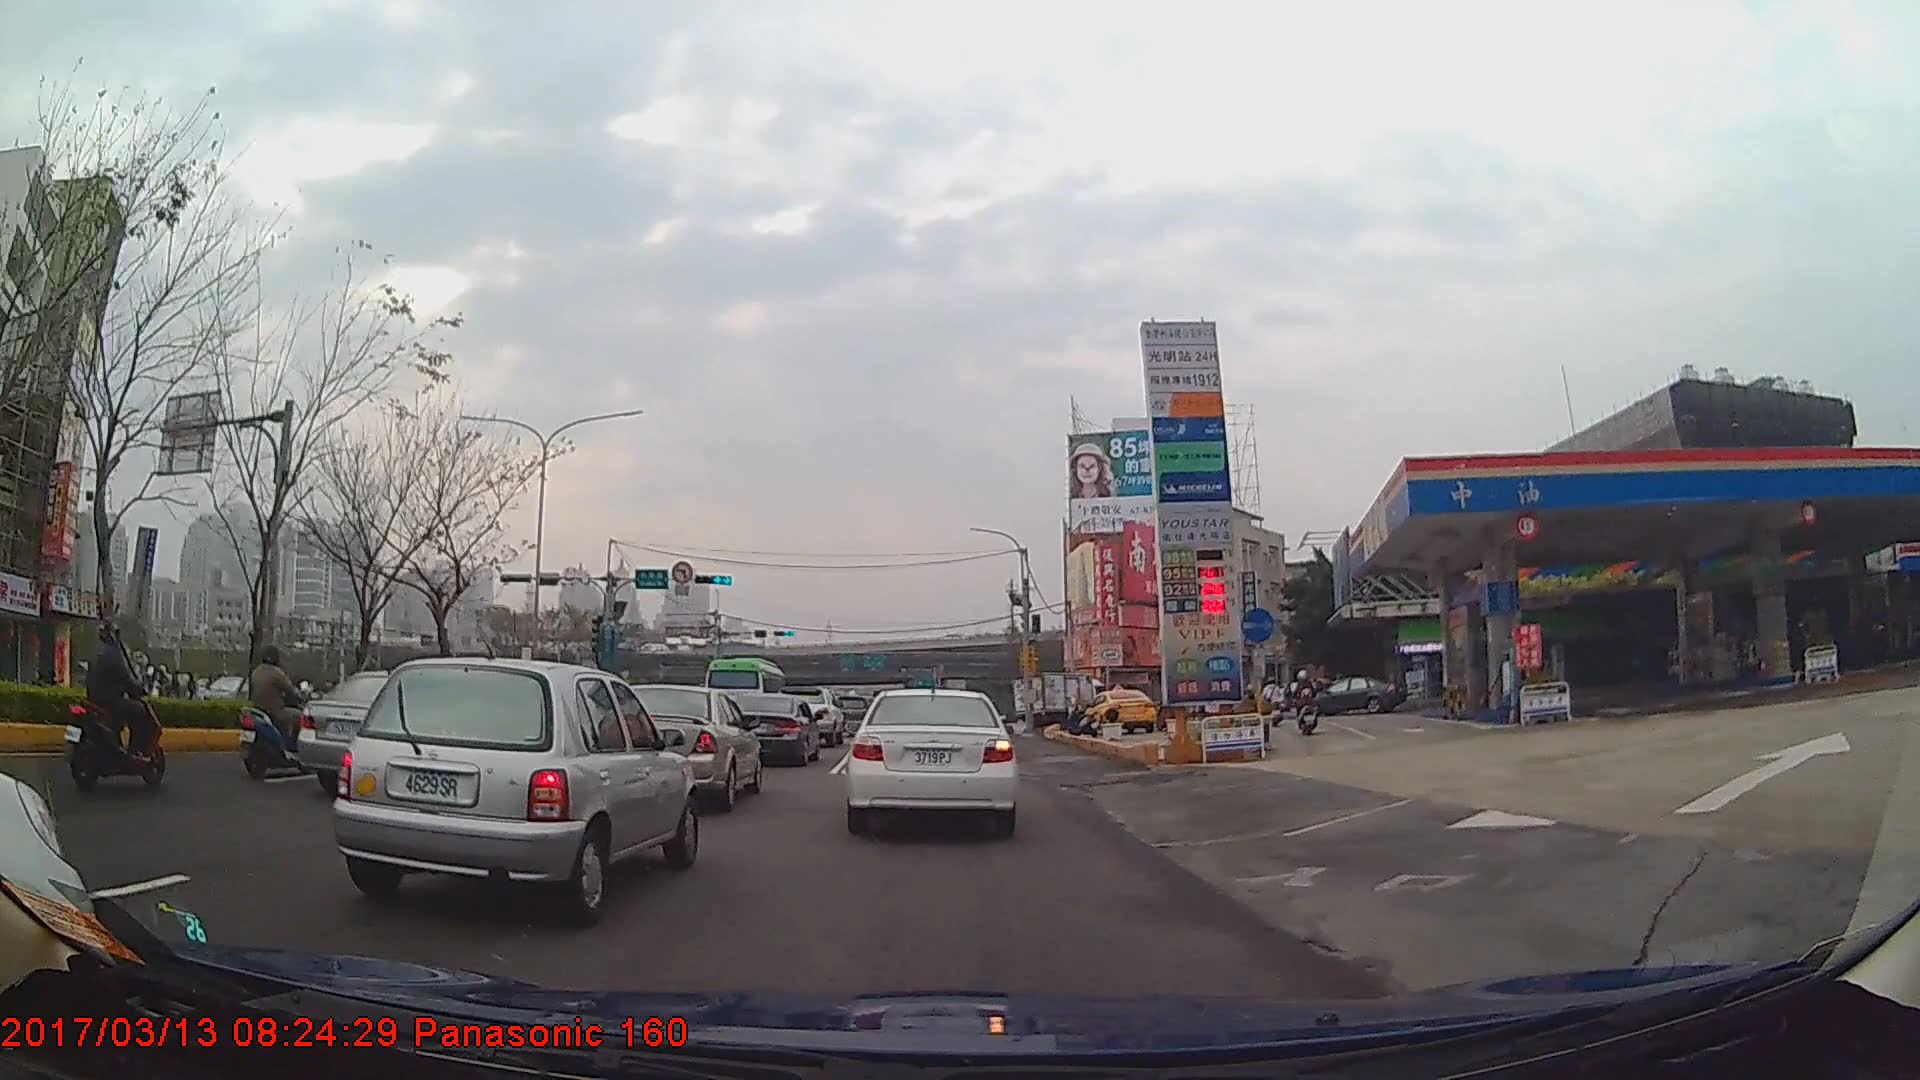rider: (62, 619, 161, 780), (236, 647, 316, 782), (1292, 670, 1319, 735), (1262, 676, 1285, 729)
vehicle: (328, 657, 698, 930), (846, 683, 1017, 837), (601, 684, 762, 815), (726, 694, 822, 769), (1009, 674, 1109, 734), (701, 654, 788, 721), (1302, 677, 1403, 716), (1085, 686, 1156, 734)
